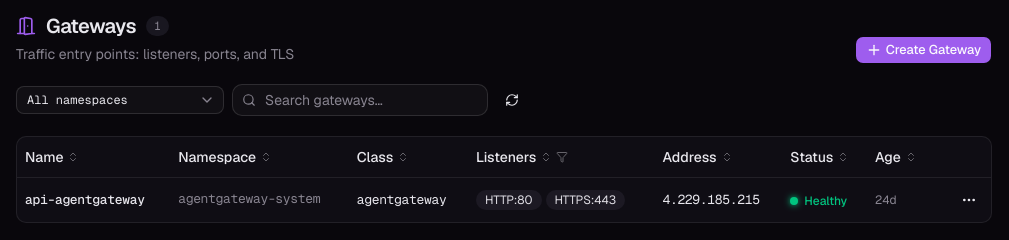
Test case: ResourceListPage › filters rows by the search box and shows a no-match message
The width and height of the screenshot is (1009, 240).
Expected: the link "api-agentgateway" is shown, 25,191 -> 145,208
Type "api-agent" into the field with placeholder "Search gateways…" at (360, 100), box 232,84 -> 488,116
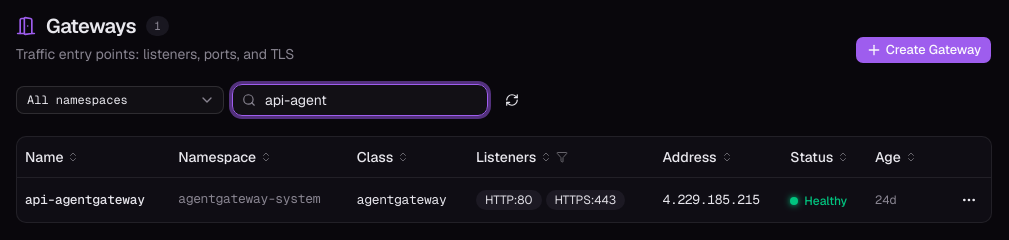
Expected: the link "api-agentgateway" is shown, 25,191 -> 145,208
Replace the text in the field with placeholder "Search gateways…" with "zzz-no-match" at (360, 100), box 232,84 -> 488,116
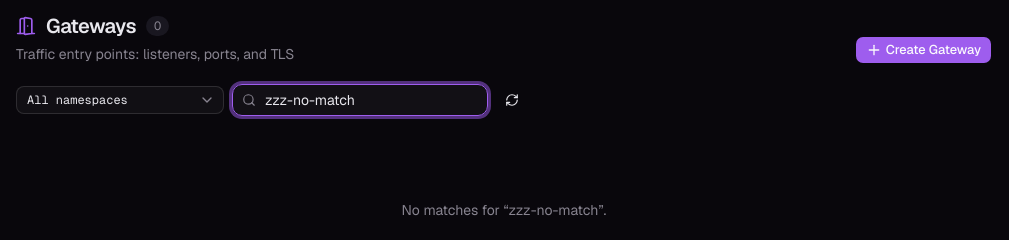
Expected: the link "api-agentgateway" is gone
Expected: the text "No matches for “zzz-no-match”." is shown, 402,201 -> 606,219
